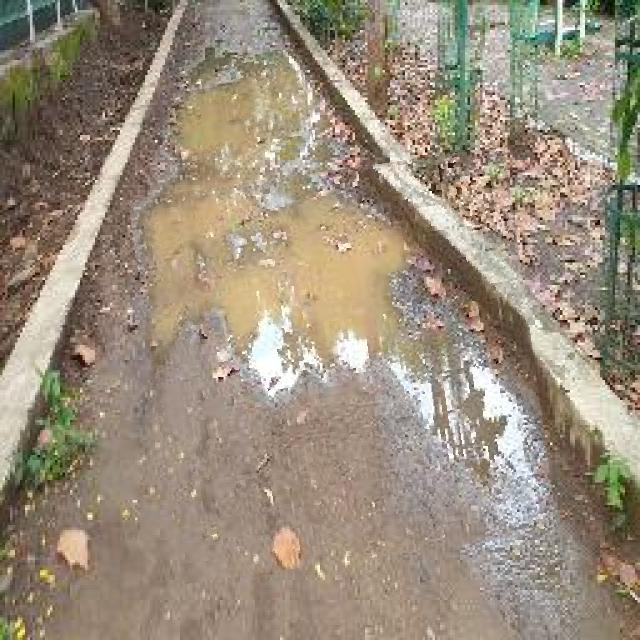puddle: (142, 160, 546, 573), (168, 54, 312, 161)
